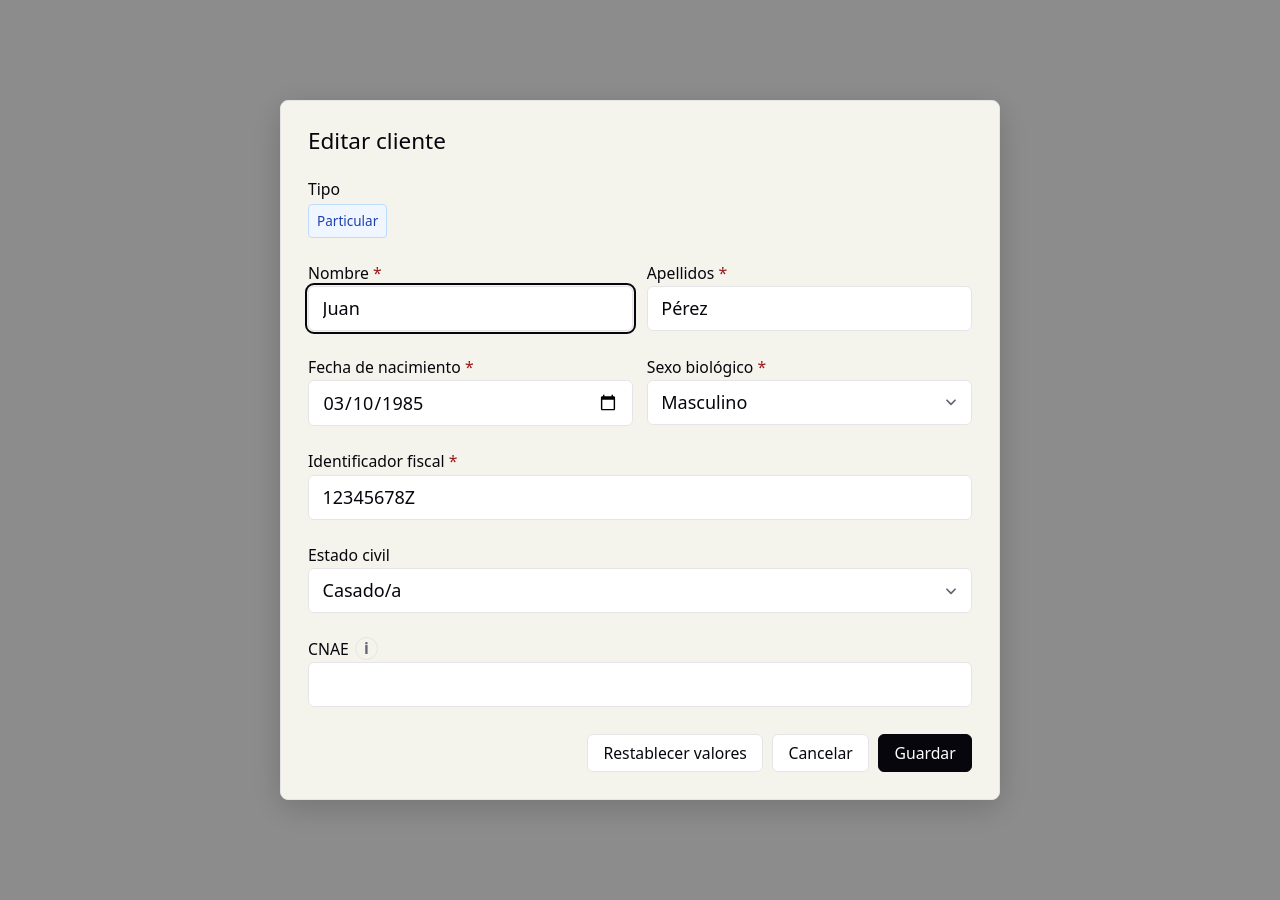
Scenario: CustomerFormModal field errors › maps a 409 UNIQUE API error to the taxId field
Click the button "Guardar": (925, 753) [878,734,972,772]
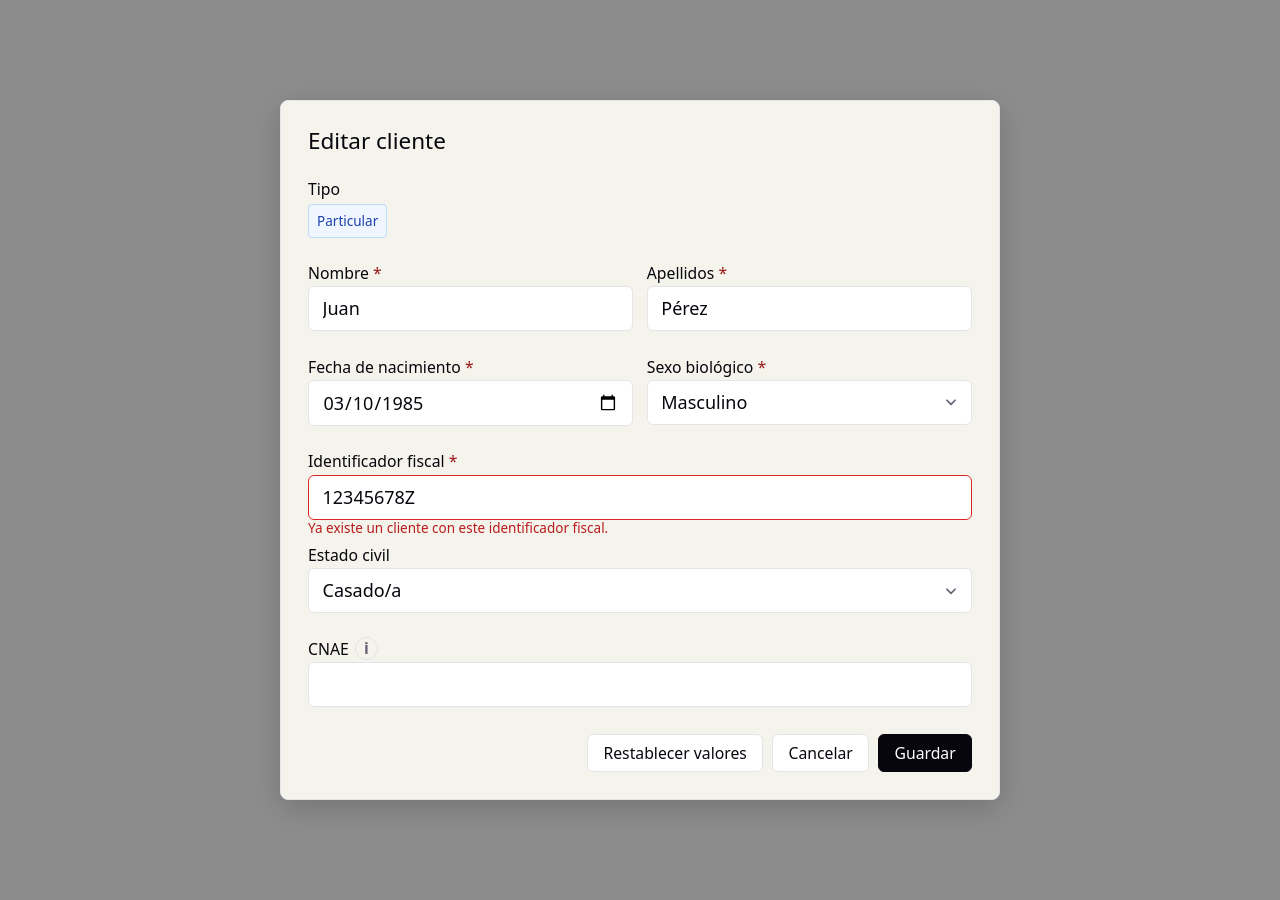
Now the message "Ya existe un cliente con este identificador fiscal." is shown, box [308,519,608,537]
